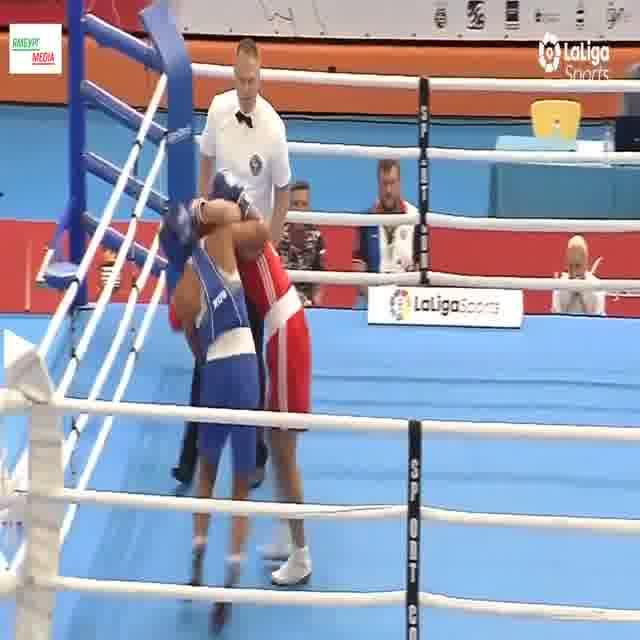blue-player: (159, 168, 270, 640)
red-player: (166, 194, 317, 588)
referee: (166, 35, 298, 497)
